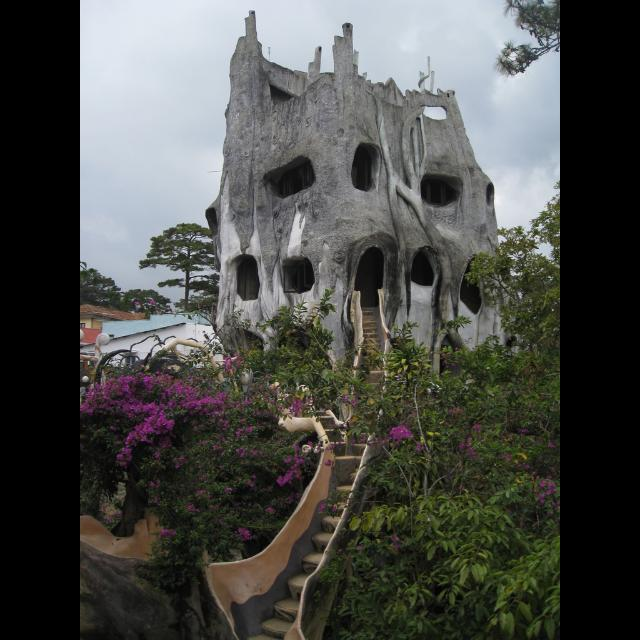Flower: (218, 375, 374, 495), (85, 383, 217, 495), (376, 424, 412, 446), (534, 472, 560, 502), (222, 347, 246, 375), (460, 437, 480, 461), (498, 452, 528, 468), (520, 429, 542, 445), (233, 526, 249, 542), (182, 503, 200, 515), (158, 529, 178, 539), (447, 406, 463, 418), (412, 443, 428, 453), (470, 423, 480, 433), (265, 506, 275, 514), (318, 502, 326, 511), (148, 298, 156, 306), (390, 537, 400, 543), (134, 302, 140, 306), (332, 507, 338, 511)
